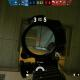Character: (46, 41, 60, 64)
